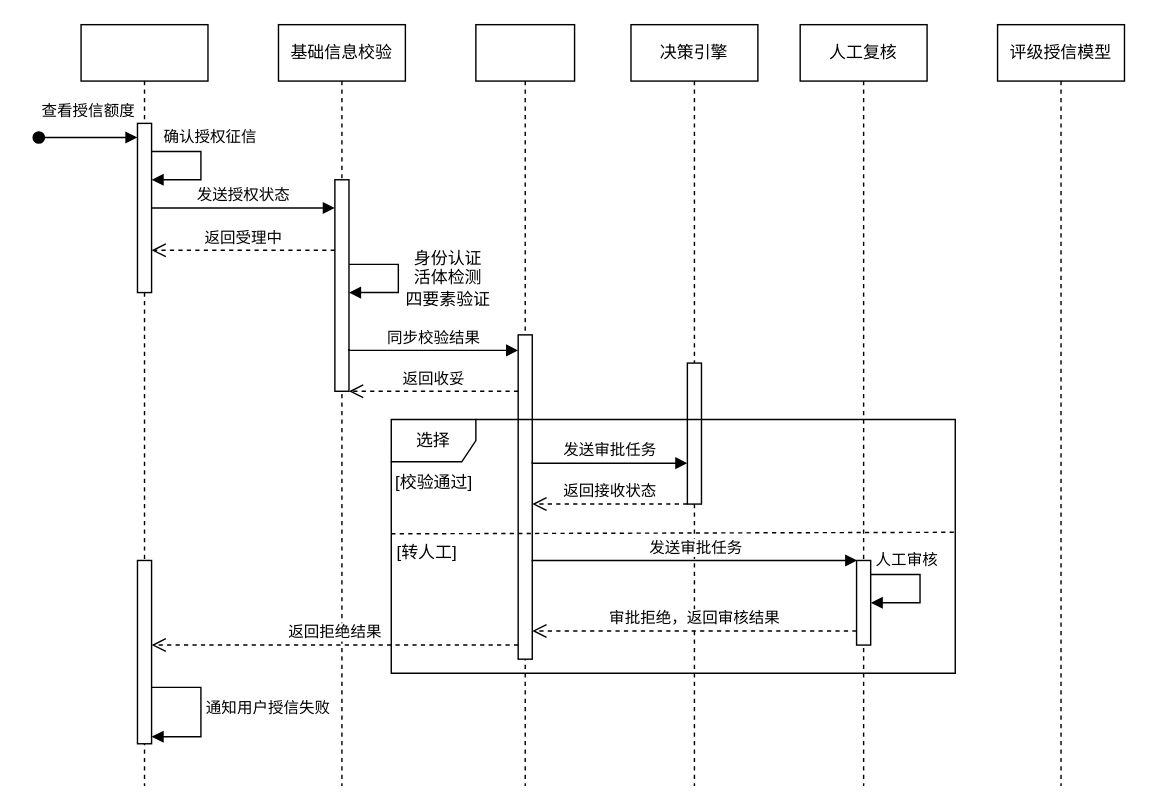
Some shapes in this 1149 by 811 pixel diagram are drawn without their labels. Each missing label, with the box of its shape:
反欺诈: (474, 23, 575, 786)
可用额度管理: (80, 23, 208, 786)
